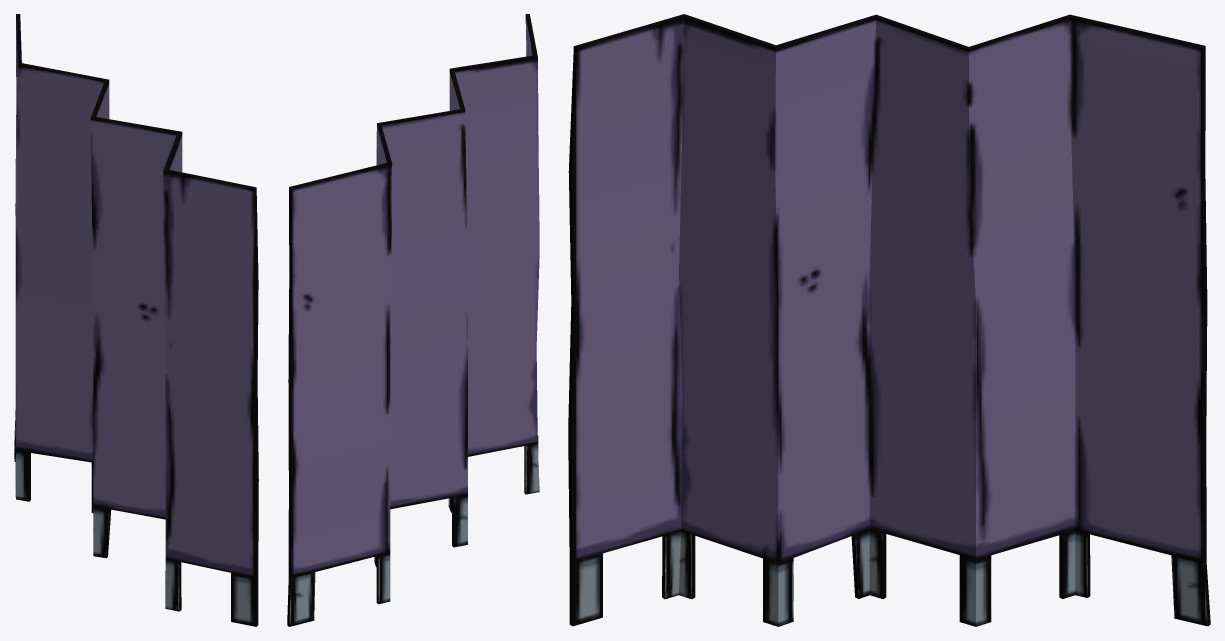
File: zasłona_stojąca1.fbx
3 views of the same model, side by side, from view 1: azimuth 30°, elevation 25°; view 2: azimuth 150°, elevation 25°; view 3: azimuth 270°, elevation 25° (orthographic). The views are drawn at different scales.
Visible parts, largest first — view 1: zasłona stojąca 1; view 2: zasłona stojąca 1; view 3: zasłona stojąca 1.
Part boxes in pixels (box(x1,y1,x2,y2)): zasłona stojąca 1: box(14, 14, 258, 626); zasłona stojąca 1: box(287, 14, 539, 626); zasłona stojąca 1: box(568, 14, 1210, 626).
Size of the model in its own units: 29.63 by 231 by 232.
1 material, 1 textured.
